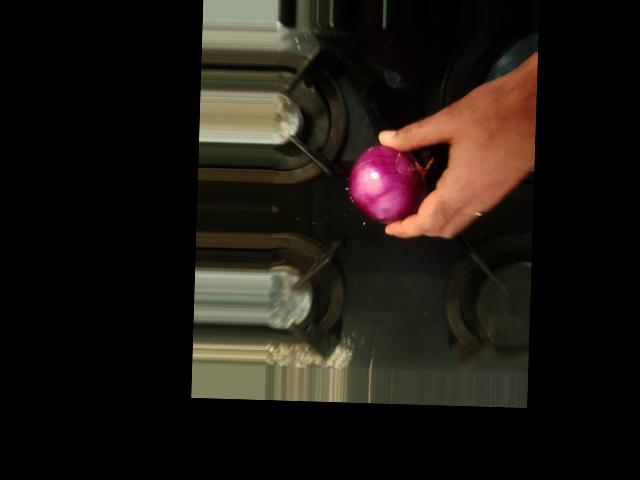onion: (348, 139, 429, 228)
